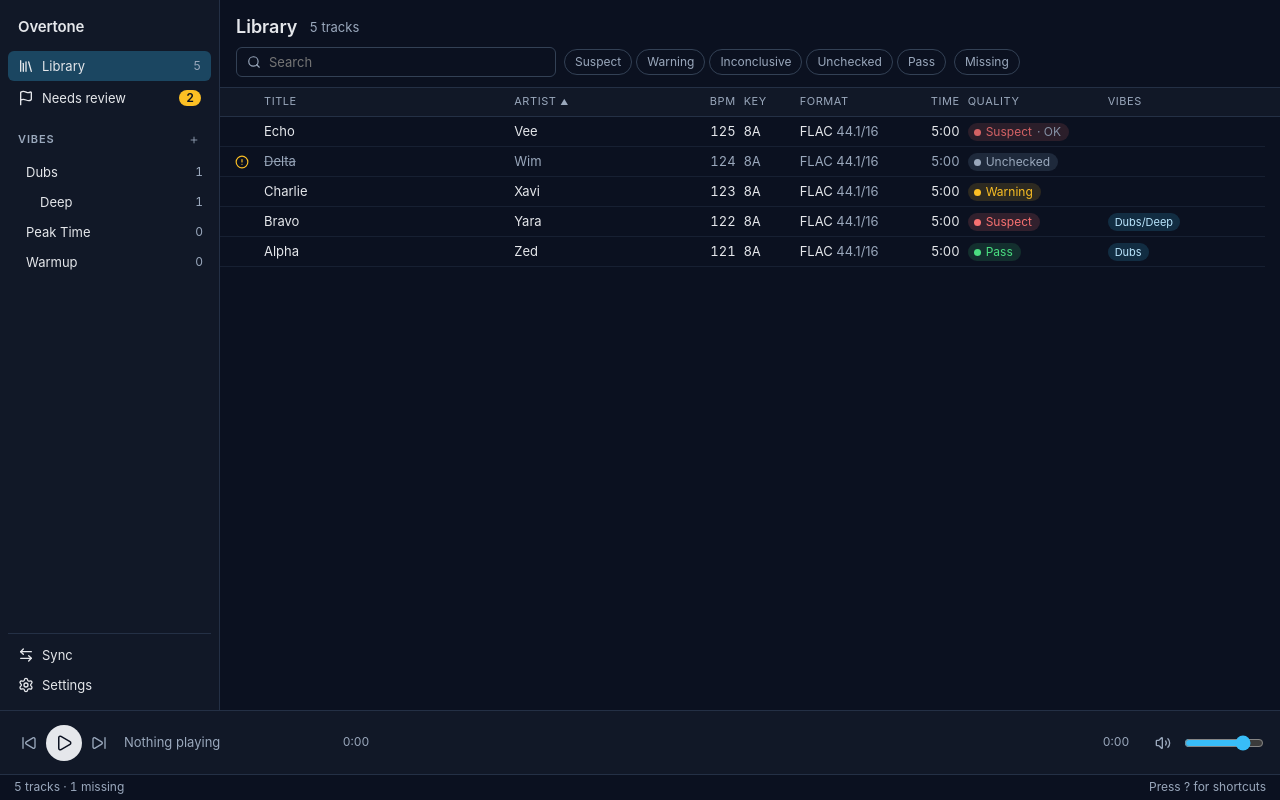
Test: Quality inspector › shows the spectrogram with a frequency axis and a cutoff marker
Expected: the navigation bar named "Main" is shown, [0,0,220,710]
Click the row "Bravo Yara 122 8A FLAC 44.1/16 5:00 Suspect Dubs/Deep" at (742, 222), box [220,207,1265,237]
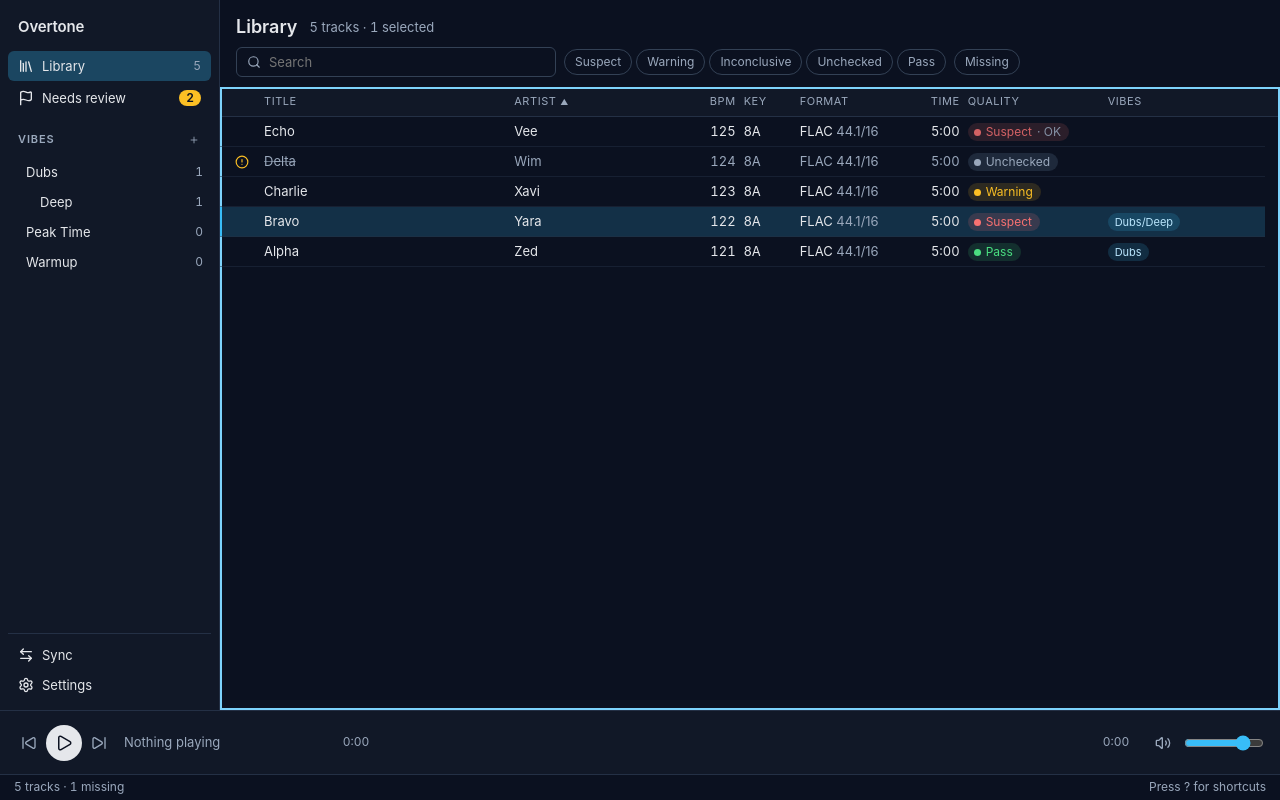
Type keys "i"
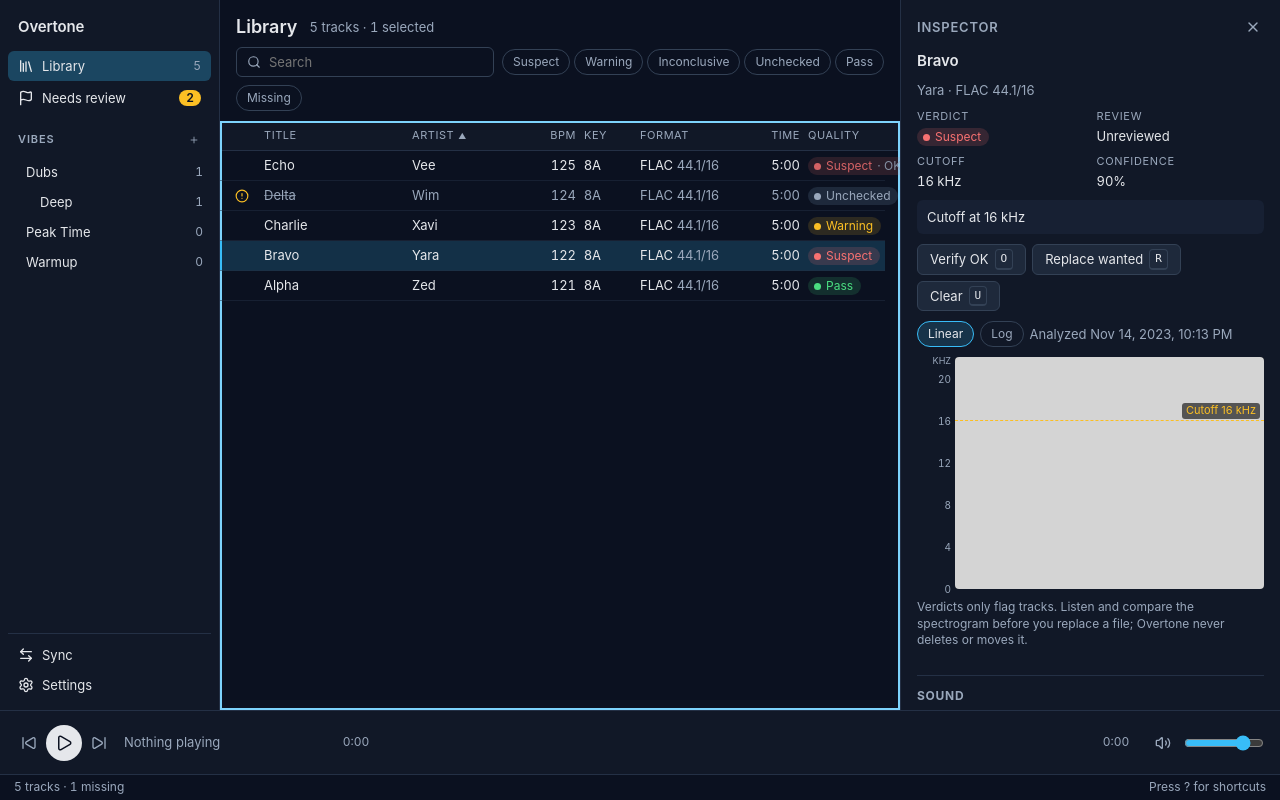
Now the text "Cutoff 16 kHz" is shown, box [1182,403,1260,419]
Now the text "20" is shown, box [938,372,951,386]
Click the button "Log" at (1002, 334), box [980,321,1024,347]
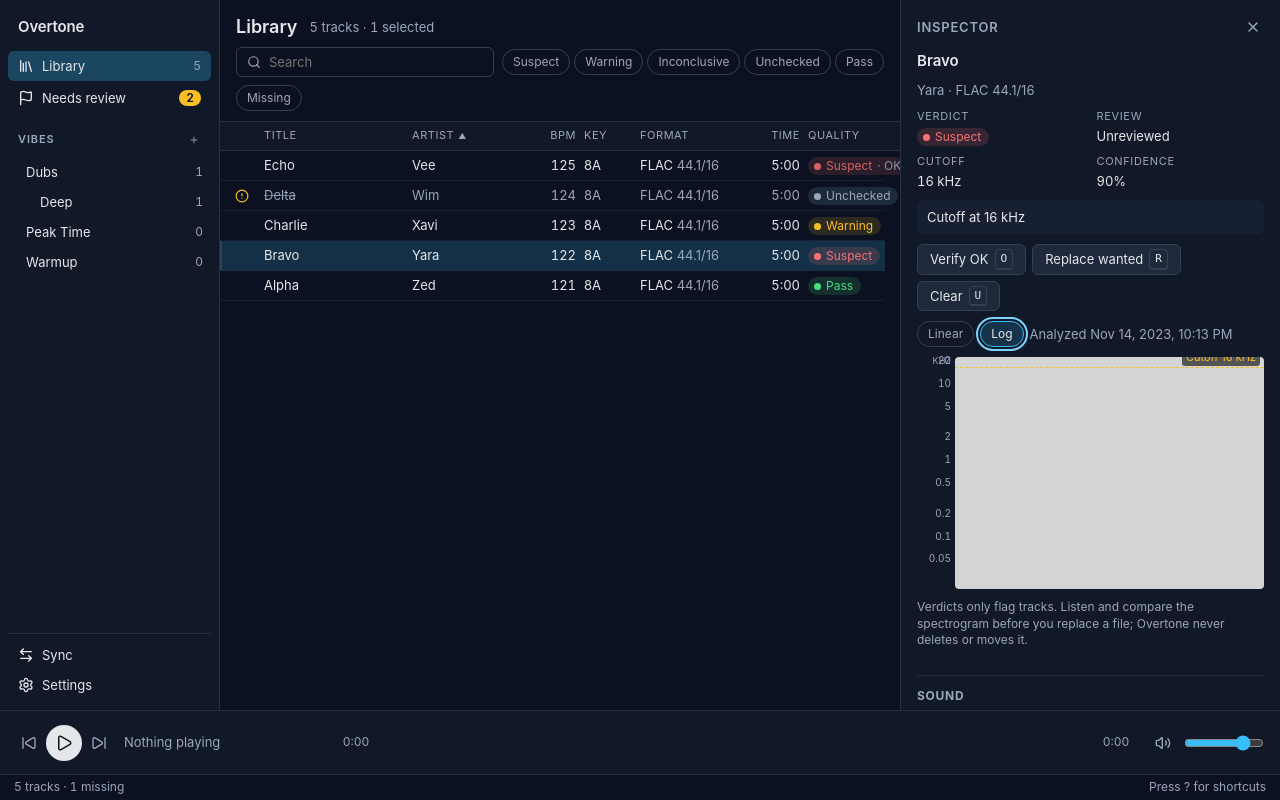
Now the text "0.05" is shown, box [929,552,951,566]
